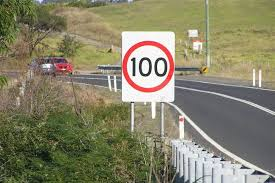Speed_limit_100km: (122, 41, 175, 93)
